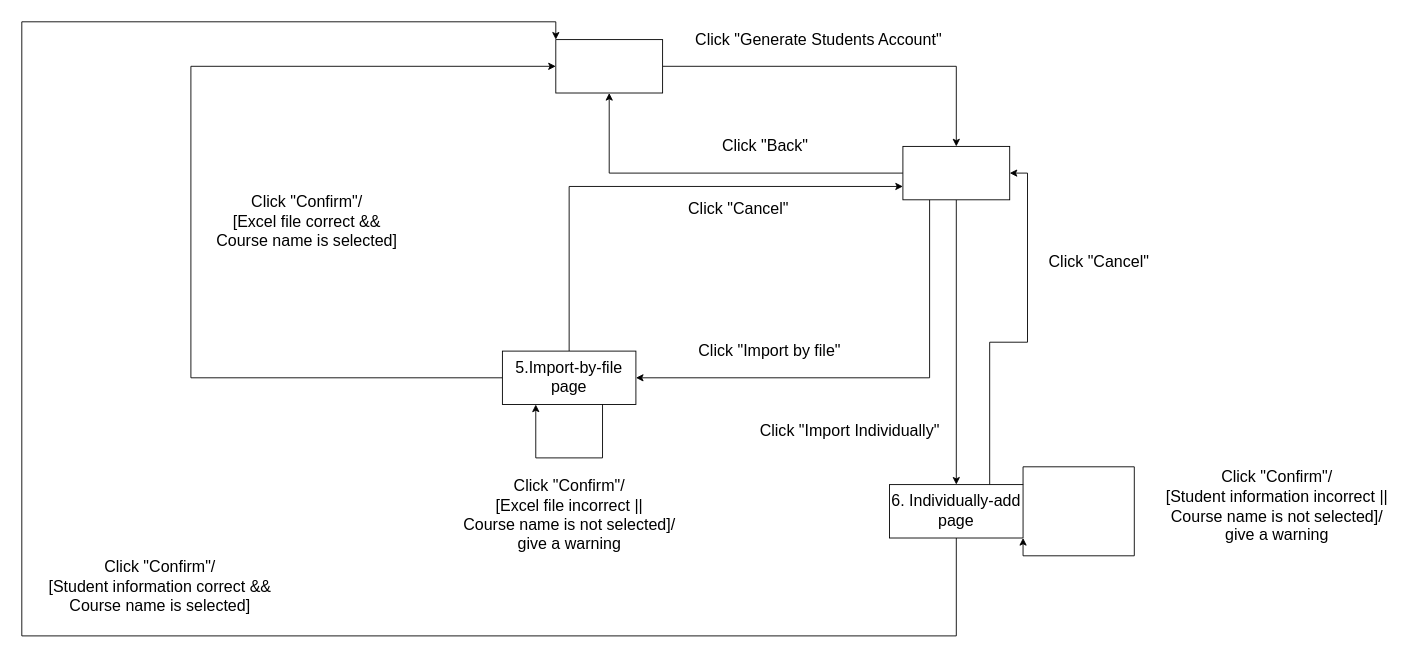
This 1408x659 diagram has some shape labels left out. The shapes that lost their labels are listed below. From the top down, each one's centre as x and y in pixels, then its label:
At [609,66]: "3.Teacher main page".
At [956,173]: "4.Import page".
